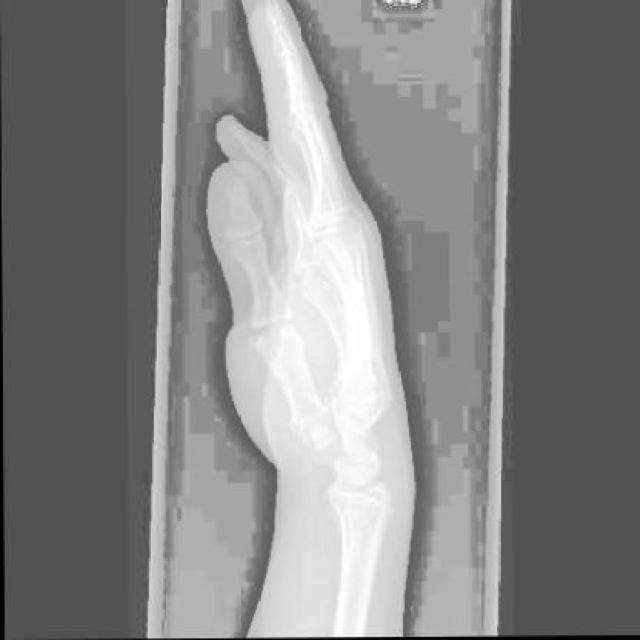Fracture: (362, 429, 384, 457)
